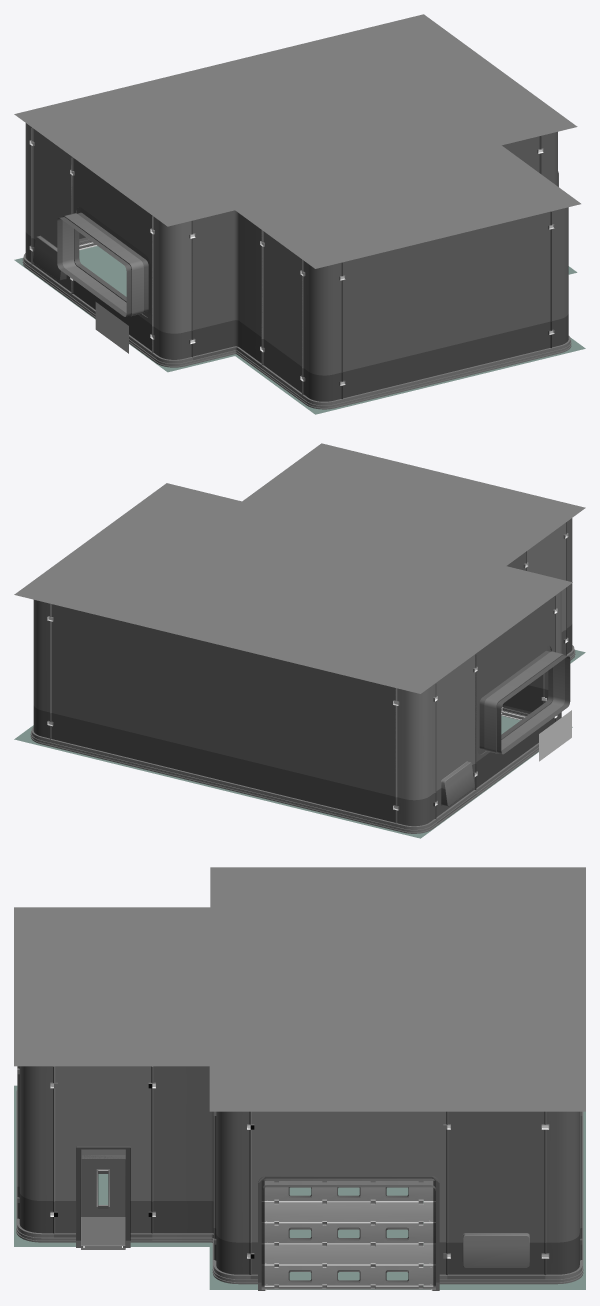
Rendered from Factory.fbx.
3 renders of one model, top to bottom at view 1: azimuth 30°, elevation 25°; view 2: azimuth 150°, elevation 25°; view 3: azimuth 270°, elevation 25°, orthographic. The views are drawn at different scales.
Visible parts, largest first — view 1: SM_Factory1001, SM_Factory1002; view 2: SM_Factory1001, SM_Factory1002; view 3: SM_Factory1001, SM_Factory1002.
Boxes of the visible parts, x1,y1,x2,y2 form: SM_Factory1001: (14, 14, 585, 414); SM_Factory1002: (260, 207, 571, 409); SM_Factory1001: (14, 443, 585, 838); SM_Factory1002: (523, 518, 575, 660); SM_Factory1001: (14, 867, 585, 1290); SM_Factory1002: (16, 1066, 155, 1249).
Size of what is drawn, in the model's own units: 1241 by 400 by 1164.
